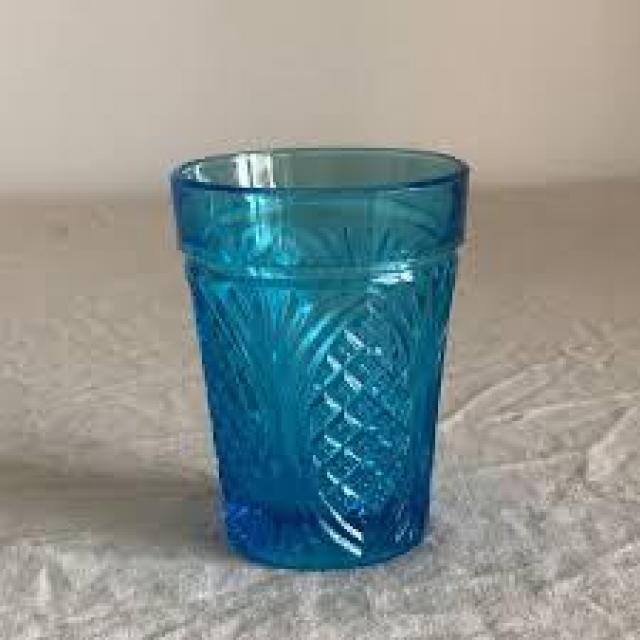non-organic waste: (166, 144, 471, 570)
